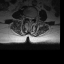CCS_normal: (29, 15, 31, 23)
LFS_stenosis: (32, 15, 34, 21)
LLS_normal: (31, 15, 32, 22)
RFS_normal: (25, 14, 27, 20)
RLS_normal: (27, 15, 29, 21)
